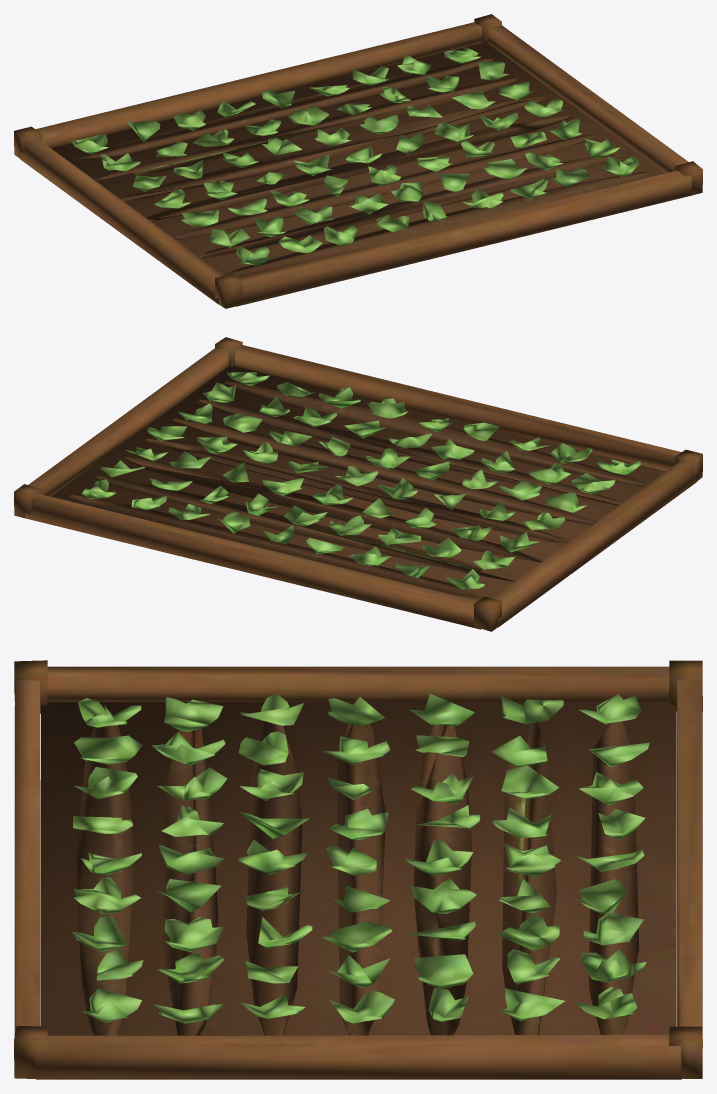
The model's file is farm-field.glb.
3 renders of one model, top to bottom at view 1: azimuth 30°, elevation 25°; view 2: azimuth 150°, elevation 25°; view 3: azimuth 270°, elevation 25°, orthographic. The views are drawn at different scales.
Parts seen in each view (by area): view 1: soil; view 2: soil; view 3: soil.
Part boxes in pixels (x1,y1,x2,y2): soil: (14, 14, 702, 308); soil: (14, 337, 702, 631); soil: (14, 660, 702, 1079).
Size of the model in its own units: 4.26 by 0.2132 by 3.26.
1 material, 1 textured.
